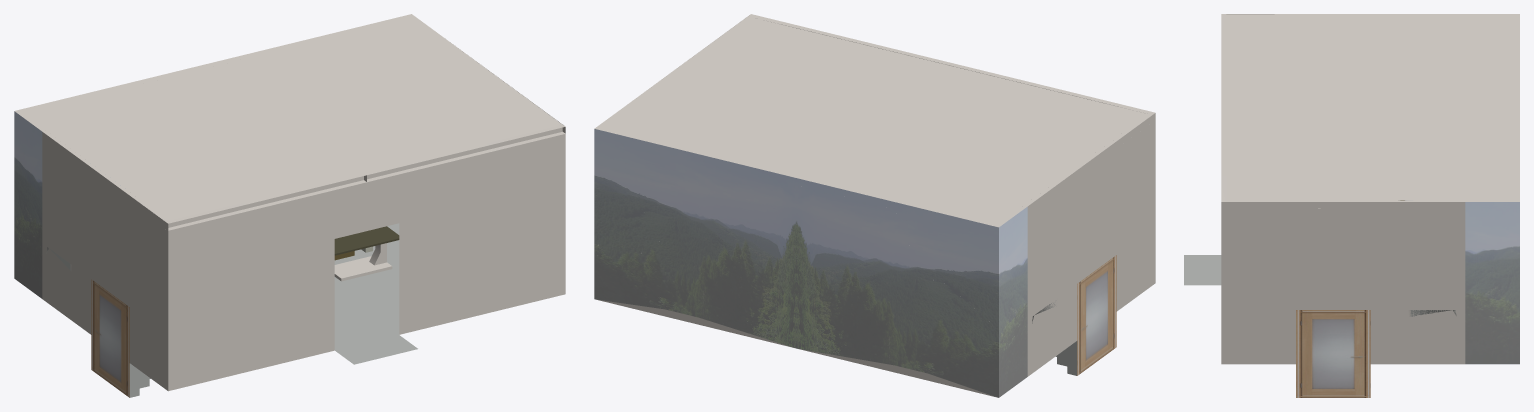
File: mitakihara_hospital_homuraroom.fbx
3 views of the same model, side by side, from view 1: azimuth 30°, elevation 25°; view 2: azimuth 150°, elevation 25°; view 3: azimuth 270°, elevation 25° (orthographic). The views are drawn at different scales.
Visible parts, largest first — view 1: mitakihara_hospital_homuraroom; view 2: mitakihara_hospital_homuraroom; view 3: mitakihara_hospital_homuraroom.
Boxes of the visible parts, x1,y1,x2,y2 form: mitakihara_hospital_homuraroom: (14,14,565,397); mitakihara_hospital_homuraroom: (594,14,1155,397); mitakihara_hospital_homuraroom: (1184,14,1519,397).
Size of the model in its own units: 298 by 145 by 225.
